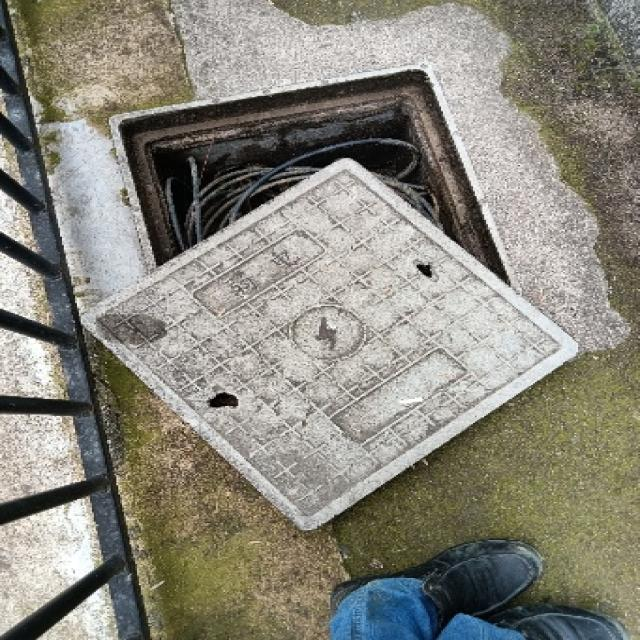Faulty: (65, 72, 562, 463)
